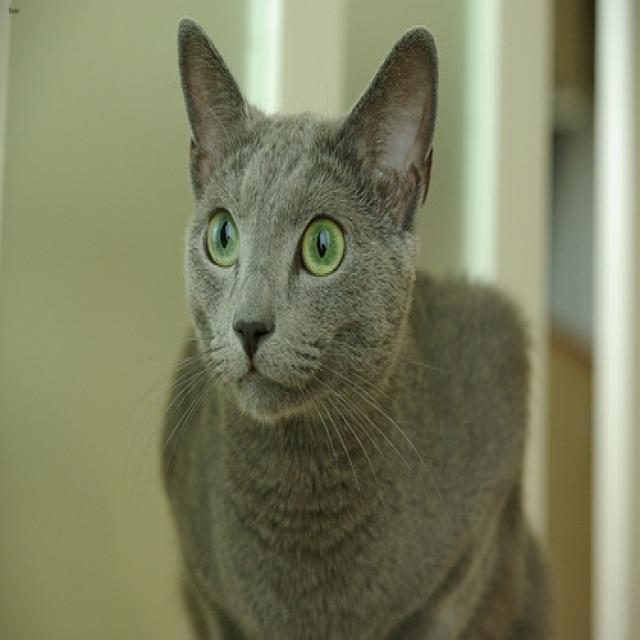Russian_Blue: (170, 14, 447, 427)
